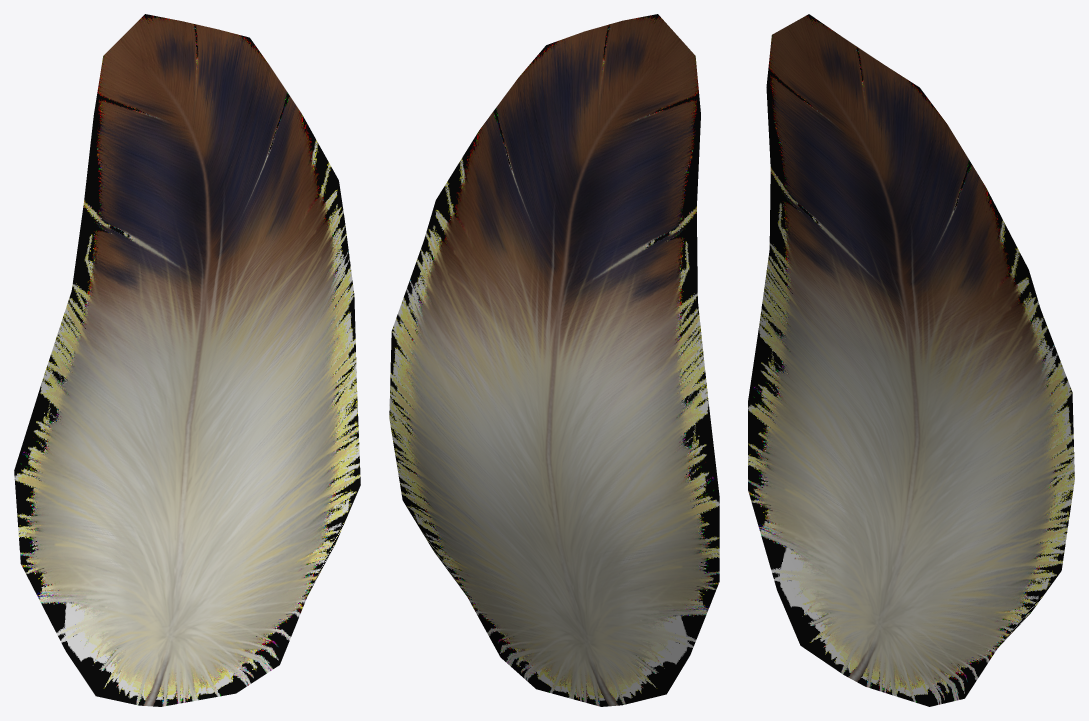
File: great feather.fbx
3 renders of one model, left to right at view 1: azimuth 30°, elevation 25°; view 2: azimuth 150°, elevation 25°; view 3: azimuth 330°, elevation 25°, orthographic. The views are drawn at different scales.
Visible parts, largest first — view 1: sparrow feather; view 2: sparrow feather; view 3: sparrow feather.
Boxes of the visible parts, x1,y1,x2,y2 form: sparrow feather: [14, 14, 360, 706]; sparrow feather: [389, 14, 719, 706]; sparrow feather: [748, 14, 1074, 706].
Size of the model in its own units: 43.76 by 87.41 by 8.27.
1 material, 1 textured.
